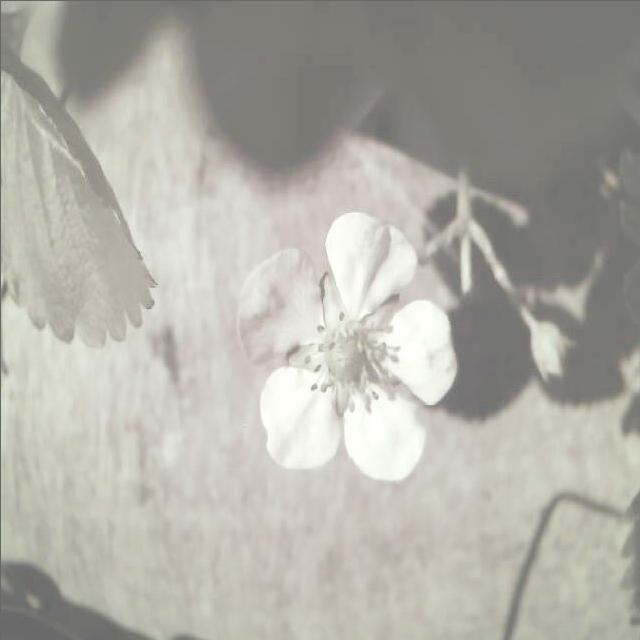flower: (230, 211, 460, 486)
